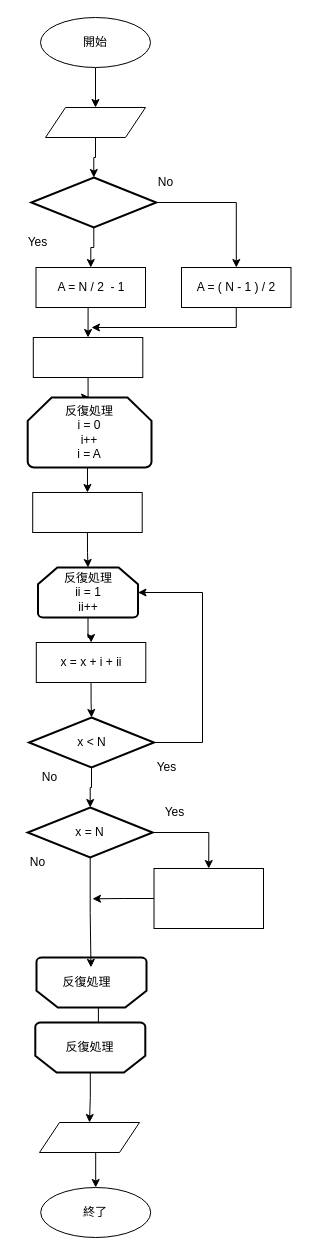
Image size: 309x1255. Some labels were removed from this diagram. Here are the shapes that lost their labels. From the top down, the centre of each, then its label:
point 95,122: input:：N
point 93,202: N % 2 = 0
point 87,357: result = 0
point 87,512: x = 0
point 208,898: result++
point 89,1137: output：result
